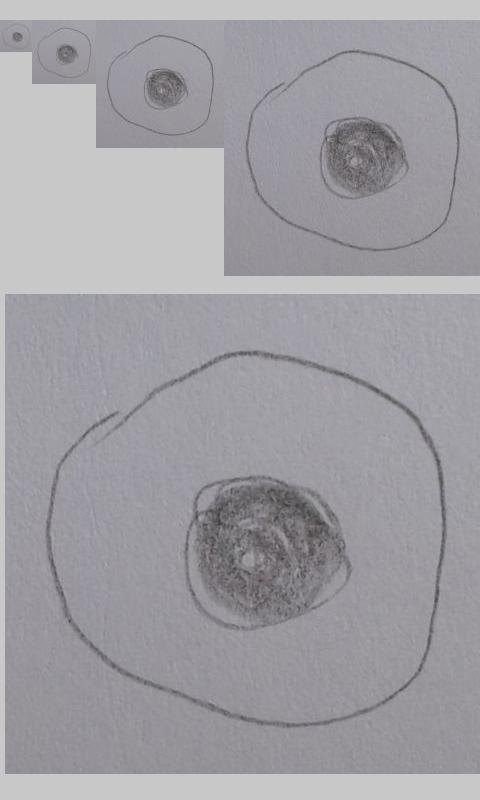radio_button: (43, 347, 449, 730), (243, 48, 461, 252), (104, 34, 214, 137), (35, 26, 91, 79), (1, 22, 30, 50)
